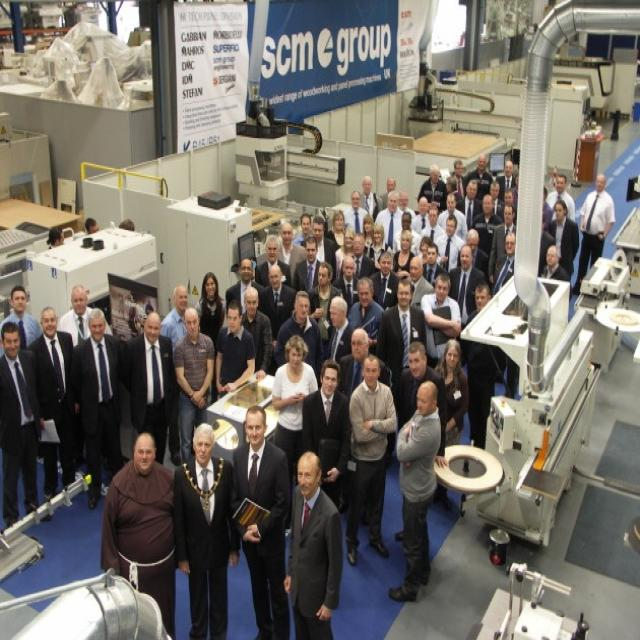body: (170, 418, 242, 639), (100, 430, 176, 635), (230, 403, 292, 639), (342, 352, 402, 568), (386, 379, 443, 605), (67, 303, 127, 513), (282, 449, 344, 640), (23, 304, 78, 503), (270, 332, 320, 529), (0, 321, 44, 533), (121, 310, 178, 467), (459, 276, 508, 452), (300, 357, 352, 506), (172, 306, 216, 463), (489, 230, 523, 405), (571, 172, 618, 298), (374, 275, 428, 372), (392, 338, 443, 432), (193, 271, 228, 407), (275, 288, 325, 379), (213, 298, 257, 399), (419, 270, 462, 370), (338, 326, 391, 406), (435, 335, 470, 448), (32, 214, 148, 248), (55, 282, 115, 346), (240, 284, 274, 383), (450, 242, 487, 332), (257, 262, 298, 342), (0, 282, 43, 358), (346, 275, 386, 356), (308, 260, 342, 353), (224, 254, 267, 322), (487, 200, 517, 286), (470, 192, 505, 265), (158, 283, 193, 353), (326, 292, 356, 366), (253, 234, 293, 288), (277, 220, 308, 287), (373, 188, 404, 254), (457, 226, 491, 285), (369, 249, 400, 310), (542, 242, 573, 303), (340, 232, 377, 282), (435, 213, 465, 274), (334, 253, 361, 319), (312, 212, 338, 279), (291, 235, 321, 292), (417, 162, 449, 214), (419, 203, 449, 257), (456, 176, 484, 233), (545, 172, 576, 223), (438, 192, 468, 244), (392, 211, 424, 259), (408, 254, 435, 308), (465, 150, 494, 199), (392, 227, 418, 280), (342, 188, 369, 237), (367, 220, 393, 270), (359, 173, 385, 222), (422, 241, 448, 288), (334, 225, 357, 278), (439, 175, 466, 215), (495, 156, 516, 203), (292, 211, 317, 250), (326, 208, 348, 252), (414, 233, 443, 265), (411, 195, 433, 237), (397, 190, 418, 232), (449, 157, 468, 202), (488, 179, 506, 223), (498, 188, 517, 225), (378, 174, 398, 208), (360, 212, 374, 260), (538, 183, 550, 223), (513, 172, 522, 183)
